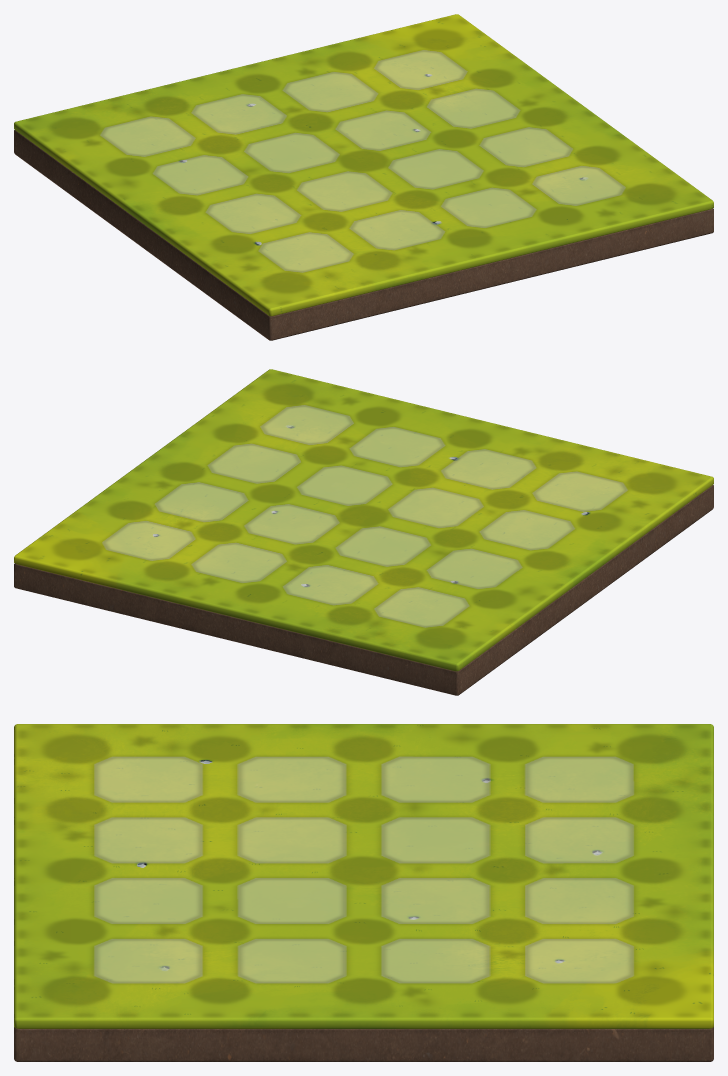
File: MemoRoute_Board.fbx
3 views of the same model, one above another, from view 1: azimuth 30°, elevation 25°; view 2: azimuth 150°, elevation 25°; view 3: azimuth 270°, elevation 25° (orthographic). The views are drawn at different scales.
Parts seen in each view (by area): view 1: MemoRoute_Board; view 2: MemoRoute_Board; view 3: MemoRoute_Board.
Part boxes in pixels (left/top/right/bottom): MemoRoute_Board: left=14, top=14, right=713, bottom=340; MemoRoute_Board: left=14, top=369, right=713, bottom=695; MemoRoute_Board: left=14, top=724, right=713, bottom=1061.
Bounding box in the file's own units: 57 × 4 × 57.
